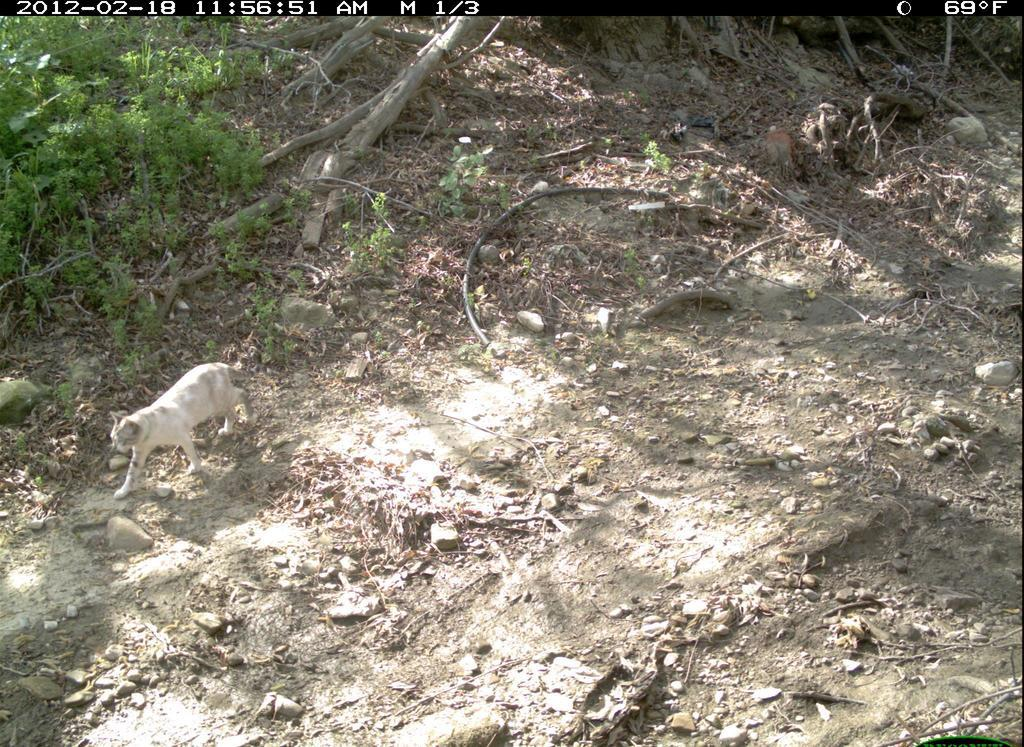cat: (98, 347, 275, 502)
